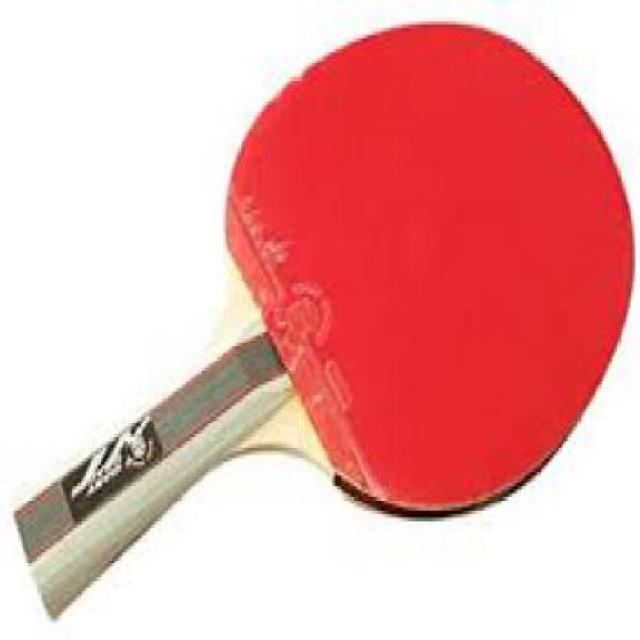table_tennis_racket: (208, 17, 635, 523)
